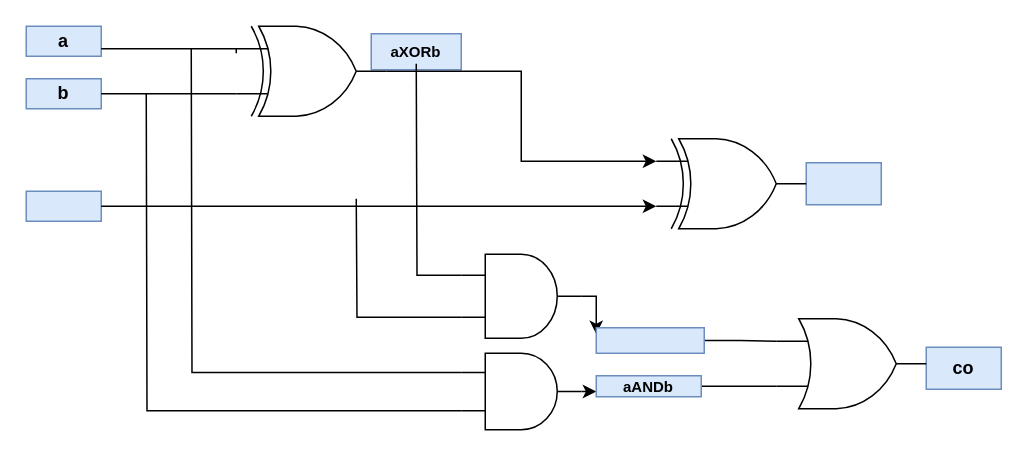
This 1028x456 diagram has some shape labels left out. The shapes that lost their labels are listed below. From the top down, each one's centre as x and y in pixels, then its label:
At (x=843, y=183): "sum".
At (x=63, y=205): "ci".
At (x=649, y=339): "XORcarry".
